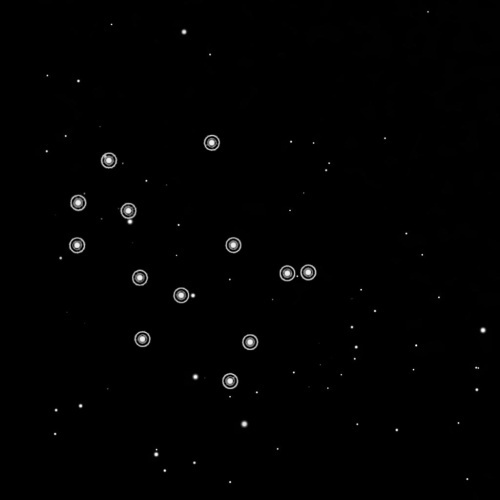gemini: (55, 125, 323, 400)
